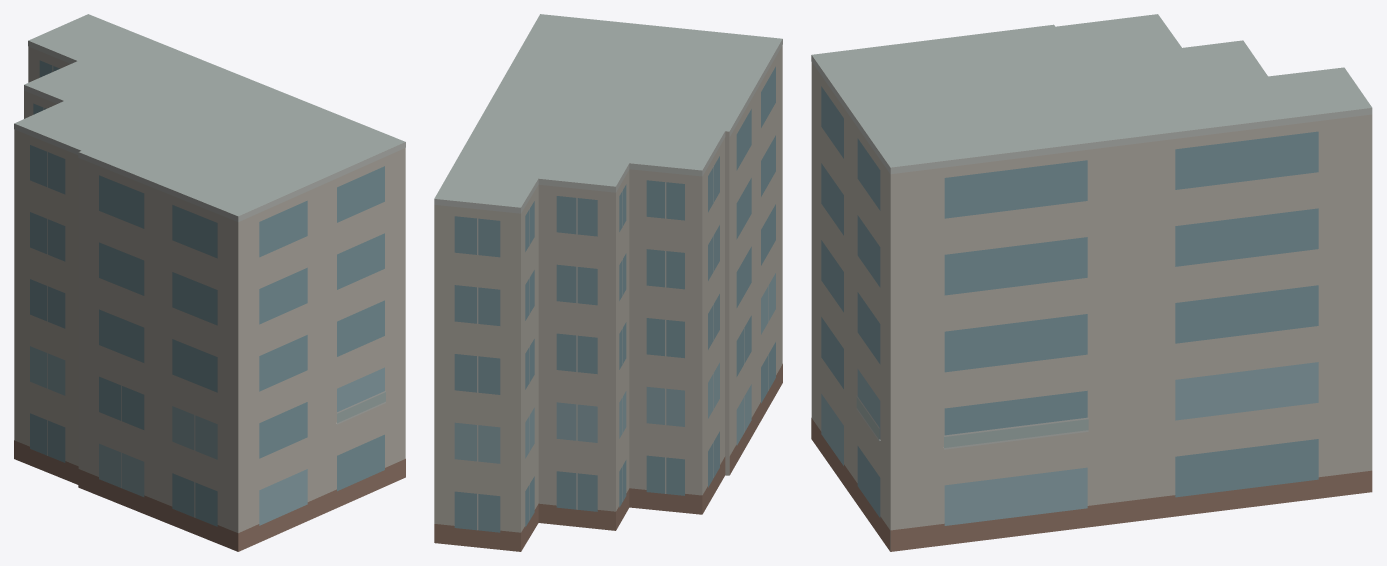
The model's file is survey-upis-32951082.glb.
3 views of the same model, side by side, from view 1: azimuth 30°, elevation 25°; view 2: azimuth 150°, elevation 25°; view 3: azimuth 270°, elevation 25° (orthographic). The views are drawn at different scales.
Visible parts, largest first — view 1: survey-upis-32951082.tmp; view 2: survey-upis-32951082.tmp; view 3: survey-upis-32951082.tmp.
Boxes of the visible parts, x1,y1,x2,y2 form: survey-upis-32951082.tmp: (14, 14, 405, 551); survey-upis-32951082.tmp: (434, 14, 782, 551); survey-upis-32951082.tmp: (811, 14, 1372, 551).
Size of the model in its own units: 12.1 by 14.1 by 18.67.
